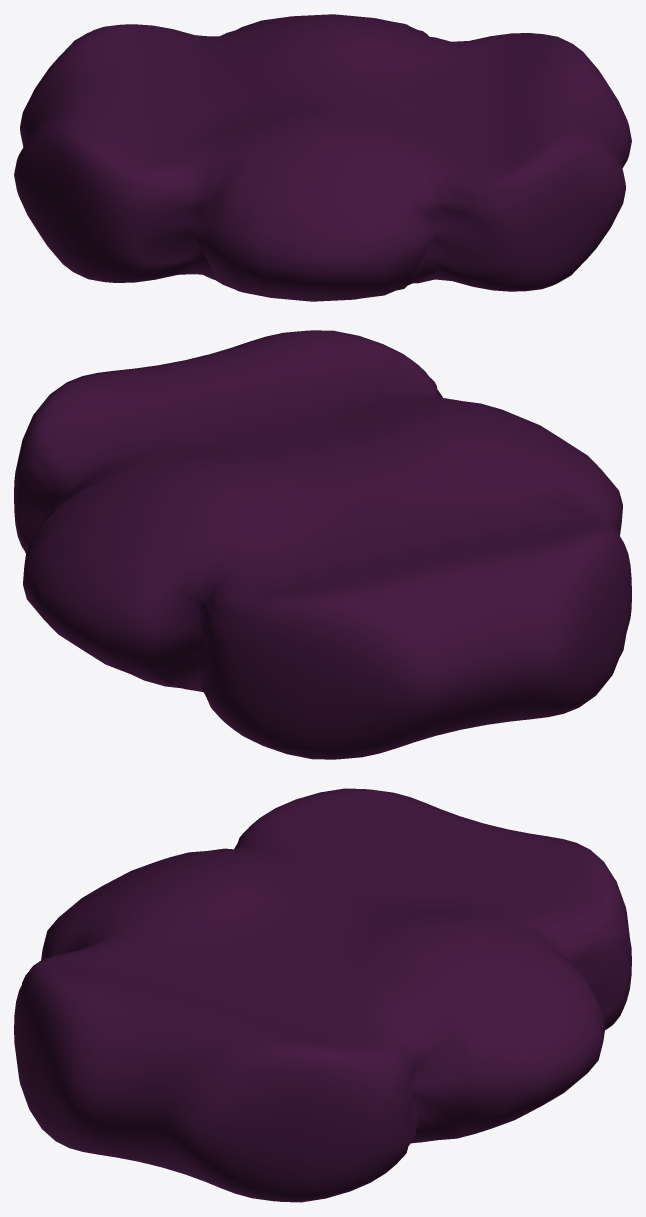
File: piedra pequeña codigo lyoko.fbx
3 renders of one model, top to bottom at view 1: azimuth 30°, elevation 25°; view 2: azimuth 150°, elevation 25°; view 3: azimuth 270°, elevation 25°, orthographic. The views are drawn at different scales.
Visible parts, largest first — view 1: Cube.015; view 2: Cube.015; view 3: Cube.015.
Boxes of the visible parts, x1,y1,x2,y2 form: Cube.015: (14, 14, 631, 301); Cube.015: (14, 330, 631, 759); Cube.015: (14, 788, 631, 1202).
Size of the model in its own units: 1195 by 364 by 1101.
